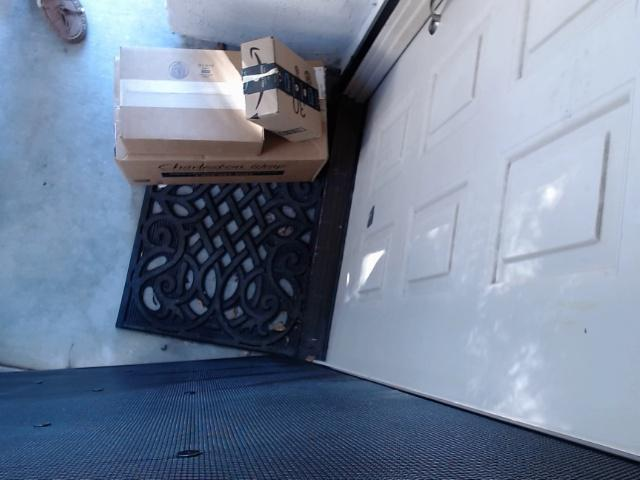box: (86, 11, 333, 206), (95, 32, 282, 156), (228, 25, 343, 142)
